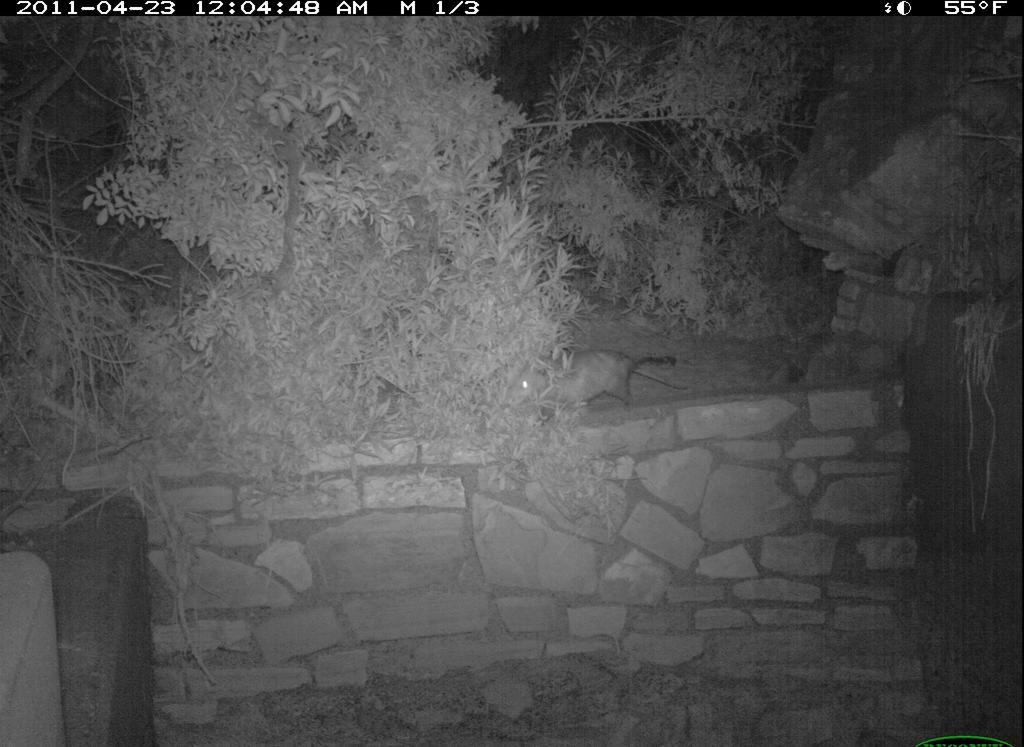opossum: (491, 333, 690, 433)
